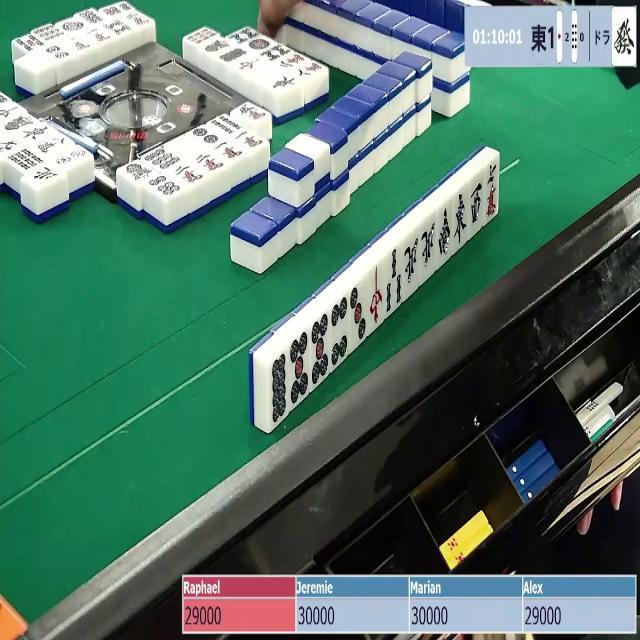east: (454, 190, 468, 248)
fa: (614, 8, 640, 62)
m7: (486, 160, 498, 220)
north: (404, 238, 420, 296), (420, 220, 436, 275)
s3: (387, 247, 403, 314)
south: (436, 203, 452, 261)
t3: (350, 283, 367, 347)
t4: (332, 293, 350, 369)
t5: (289, 330, 311, 406), (310, 314, 330, 388)
t8: (271, 352, 289, 427)
west: (468, 177, 483, 230)
zhong: (367, 264, 383, 330)
